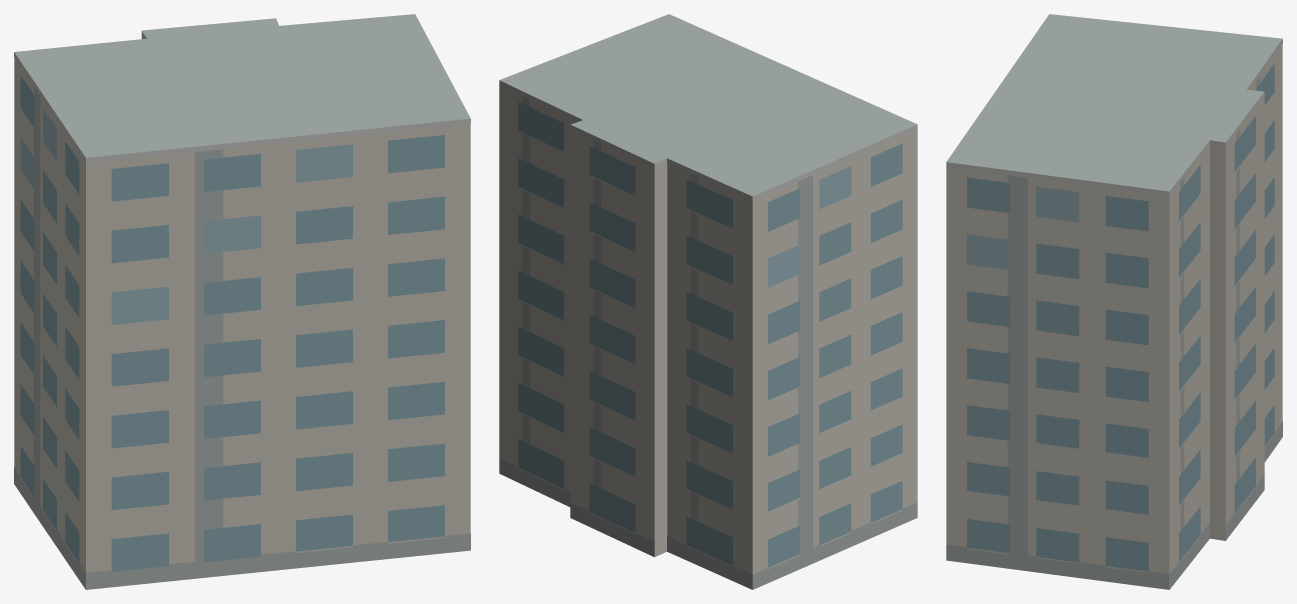
Rendered from survey-upis-32869851.glb.
3 renders of one model, left to right at view 1: azimuth 30°, elevation 25°; view 2: azimuth 150°, elevation 25°; view 3: azimuth 270°, elevation 25°, orthographic. The views are drawn at different scales.
Visible parts, largest first — view 1: survey-upis-32869851.tmp; view 2: survey-upis-32869851.tmp; view 3: survey-upis-32869851.tmp.
Part boxes in pixels (x1=…): survey-upis-32869851.tmp: x1=14, y1=14, x2=470, y2=589; survey-upis-32869851.tmp: x1=499, y1=14, x2=917, y2=589; survey-upis-32869851.tmp: x1=946, y1=14, x2=1282, y2=589.
Size of the model in its own units: 18.69 by 19.55 by 14.97.
